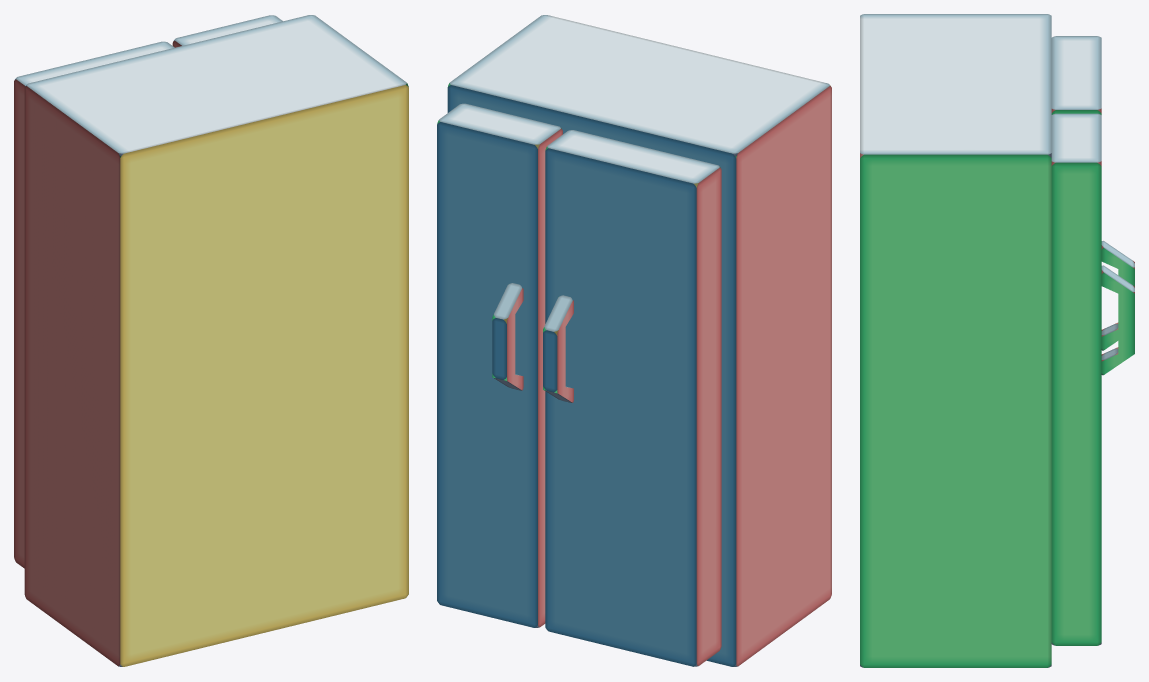
Rendered from fridge.obj.
3 renders of one model, left to right at view 1: azimuth 30°, elevation 25°; view 2: azimuth 150°, elevation 25°; view 3: azimuth 270°, elevation 25°, orthographic.
Parts seen in each view (by area): view 1: base, door; view 2: door, base, handle; view 3: base, door, handle.
Part boxes in pixels (left/top/right/bottom): base: left=24, top=15, right=408, bottom=666; door: left=14, top=15, right=282, bottom=568; door: left=437, top=103, right=721, bottom=666; base: left=447, top=15, right=831, bottom=666; handle: left=492, top=283, right=573, bottom=402; base: left=860, top=14, right=1051, bottom=667; door: left=1051, top=36, right=1101, bottom=645; handle: left=1101, top=241, right=1134, bottom=375.
Bounding box in the file's own units: 1.25 × 2.12 × 1.03.
Materials: 1 (1 with a texture image).
